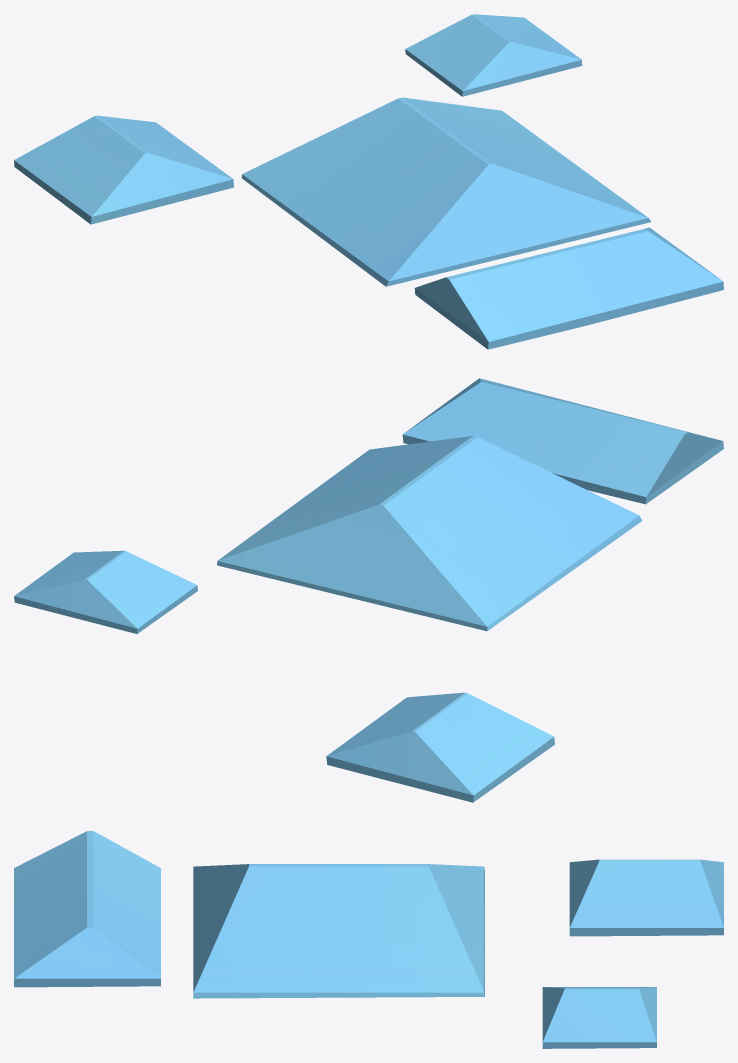
File: techos blau.fbx
3 renders of one model, top to bottom at view 1: azimuth 30°, elevation 25°; view 2: azimuth 150°, elevation 25°; view 3: azimuth 270°, elevation 25°, orthographic. The views are drawn at different scales.
Parts seen in each view (by area): view 1: techo_tipo_14, techo_tipo_15, techo_tipo_17, techo_tipo_16; view 2: techo_tipo_14, techo_tipo_15, techo_tipo_17, techo_tipo_16; view 3: techo_tipo_14, techo_tipo_15, techo_tipo_17, techo_tipo_16.
Boxes of the visible parts, box(x1,y1,x2,y2) form: techo_tipo_14: box(241, 97, 651, 286); techo_tipo_15: box(414, 227, 723, 349); techo_tipo_17: box(14, 115, 233, 224); techo_tipo_16: box(405, 14, 582, 96); techo_tipo_14: box(217, 436, 642, 631); techo_tipo_15: box(402, 378, 723, 504); techo_tipo_17: box(326, 692, 554, 802); techo_tipo_16: box(14, 550, 197, 633); techo_tipo_14: box(193, 864, 484, 998); techo_tipo_15: box(14, 831, 160, 987); techo_tipo_17: box(569, 859, 723, 936); techo_tipo_16: box(542, 987, 656, 1048).
Size of the model in its own units: 3036 by 732 by 3937.
